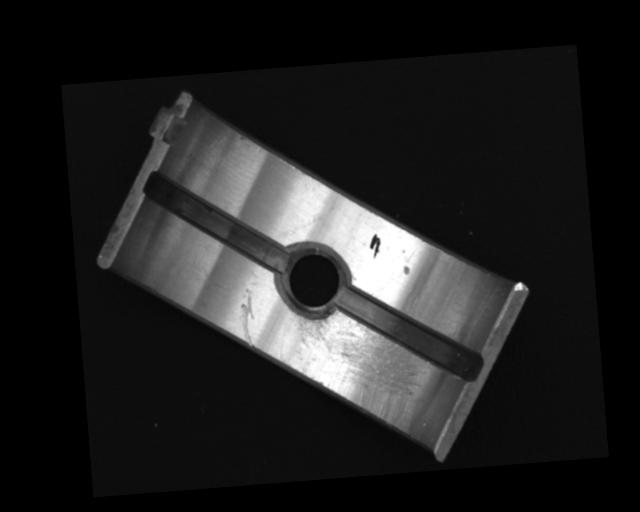blot: (367, 231, 381, 259)
bruise: (401, 264, 411, 277)
gap: (143, 164, 291, 282), (338, 280, 485, 388)
hole: (275, 243, 352, 319)
nick: (236, 287, 259, 348)
scratch: (291, 304, 424, 444)
